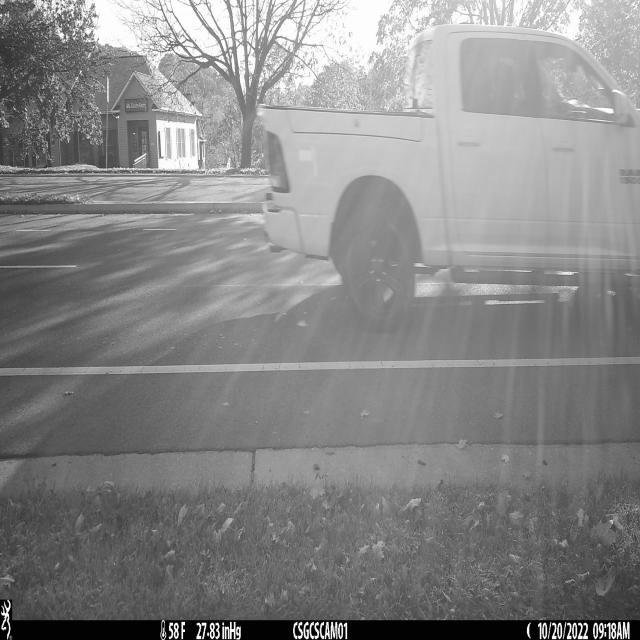Pickup: (262, 26, 640, 336)
